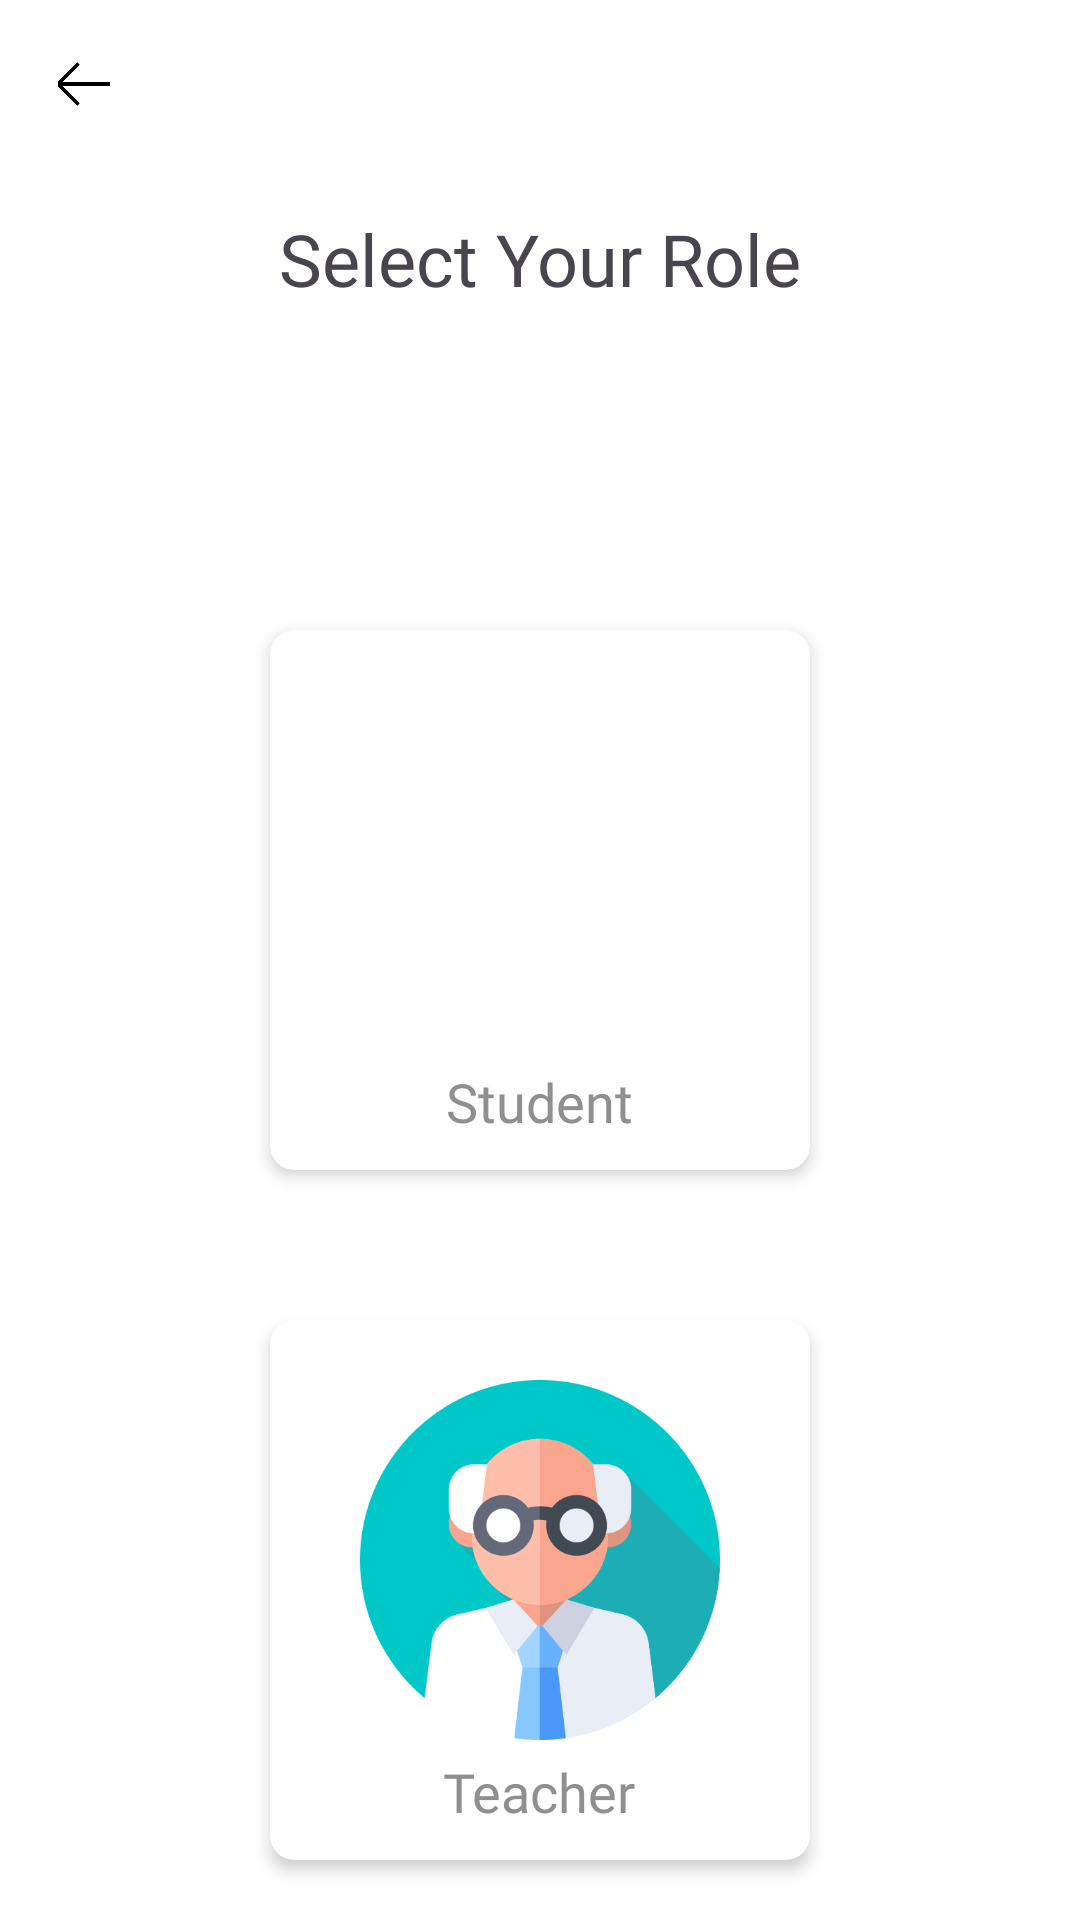

Icons on this 1080w x 1920h Android screen, each with its box as (x1, y1, x2, y2):
back: (58, 62, 110, 106)
